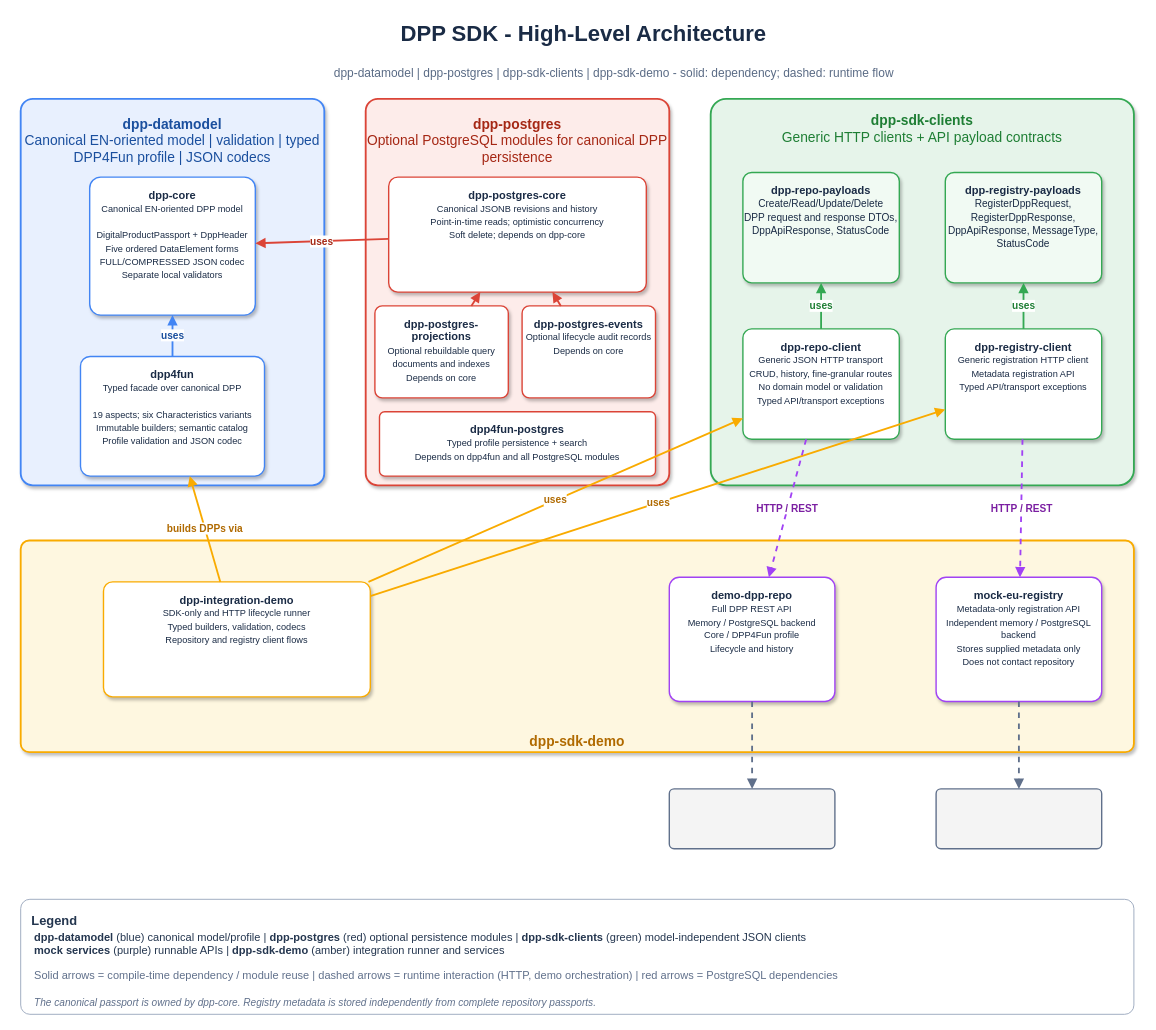
Image size: 1156x1030. Some labels were removed from this diagram. Each missing label, with the centre of its shape:
dpp-registry-db PostgreSQL (optional): pixel 1018 818
dpp-repo-db PostgreSQL (optional): pixel 751 818
